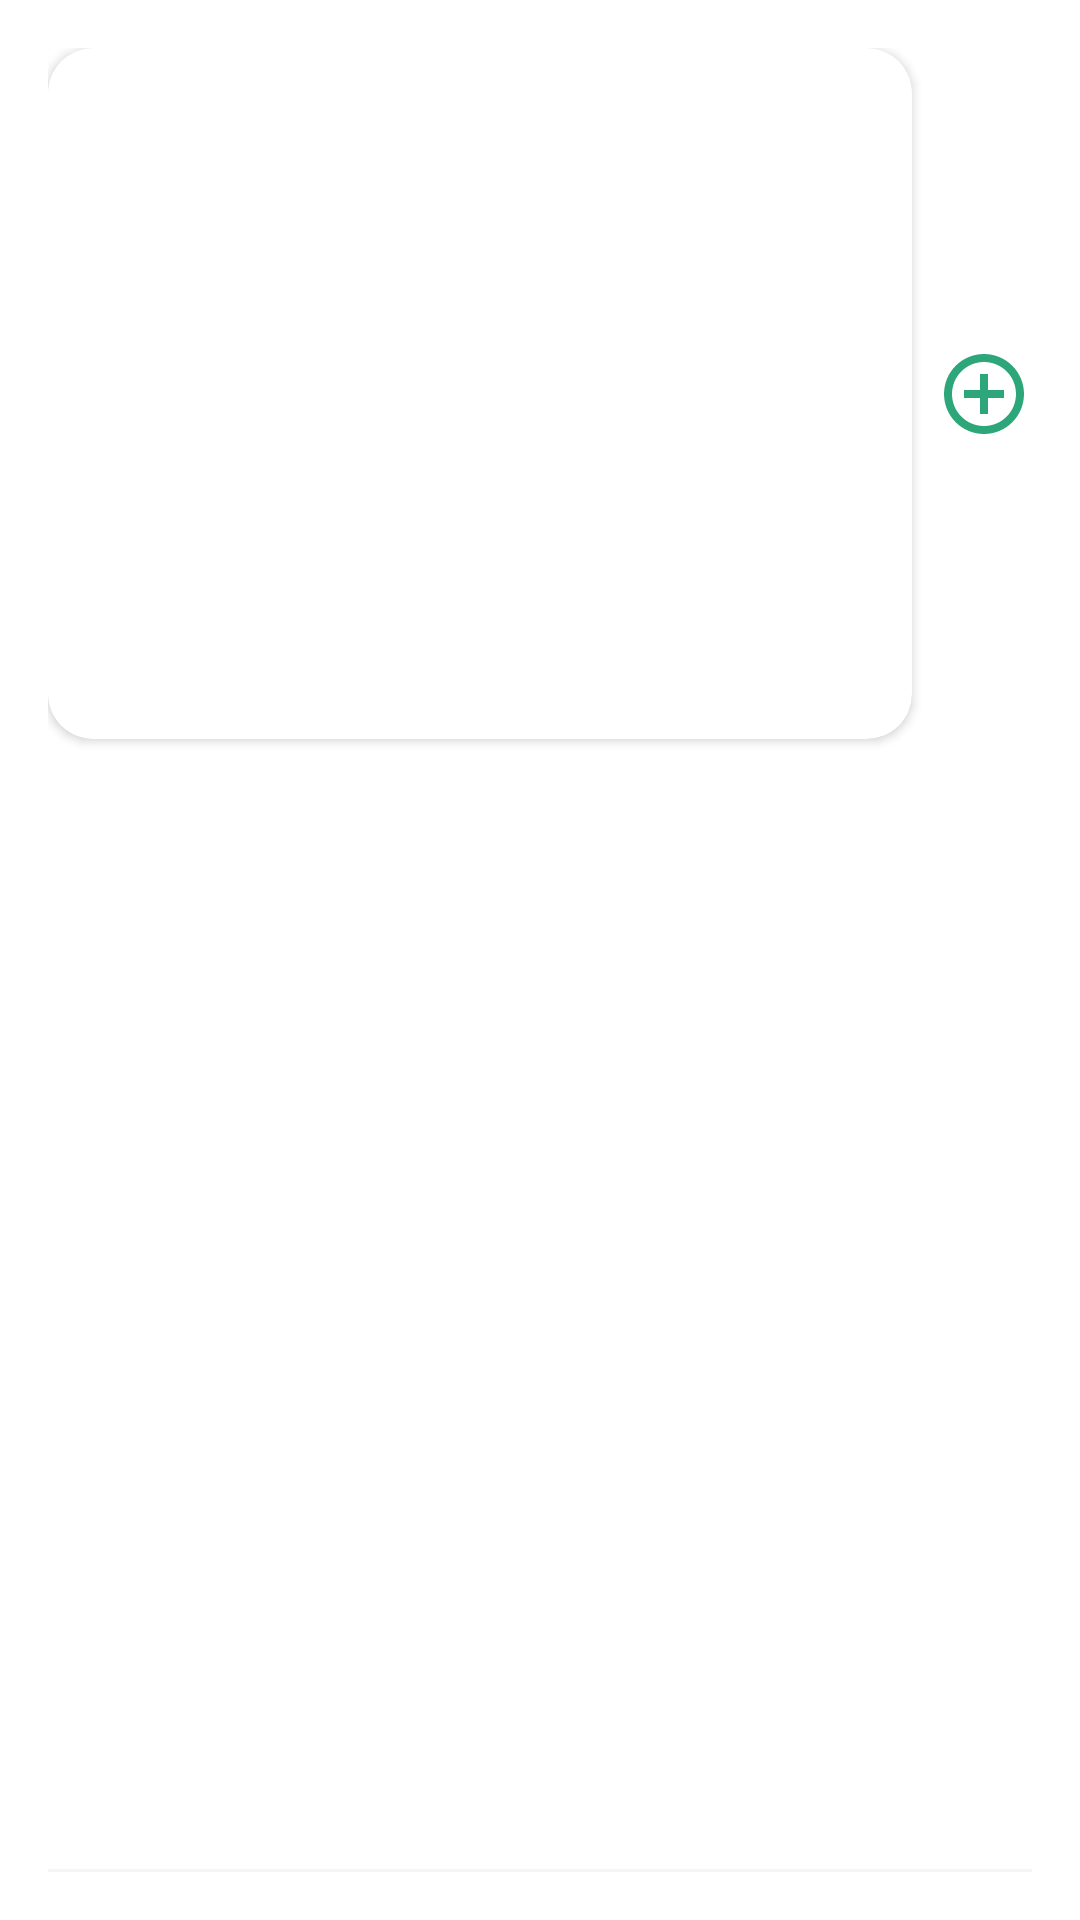

Icon bounding boxes for this 1080 × 1920 phone screenshot, format (x1, y1, x2, y2):
add circle: (944, 354, 1024, 434)
